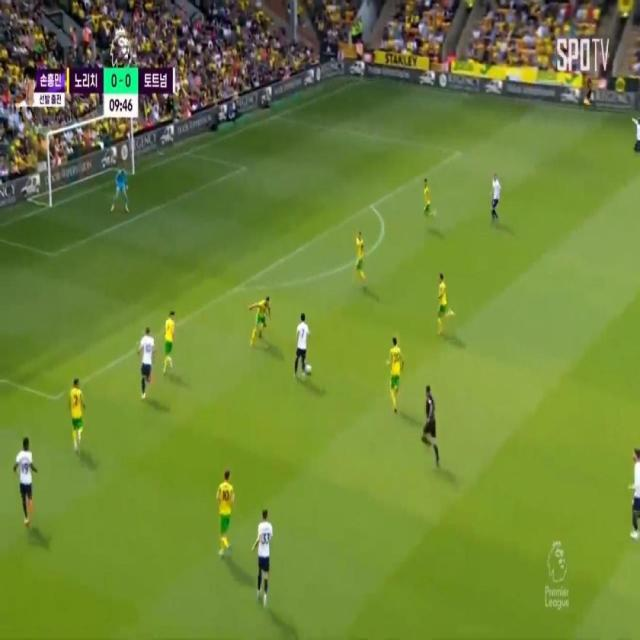ball: (300, 358, 317, 383)
goalkeeper: (106, 161, 135, 229)
player: (252, 507, 274, 610), (216, 473, 238, 556), (16, 435, 35, 528), (385, 335, 405, 411), (247, 294, 276, 345), (292, 311, 313, 376), (160, 312, 182, 374), (435, 271, 457, 329), (628, 446, 640, 542), (139, 334, 154, 398), (70, 375, 82, 455), (352, 234, 368, 291), (421, 173, 435, 228), (489, 175, 502, 221), (631, 108, 640, 156)
referee: (420, 384, 439, 464)
